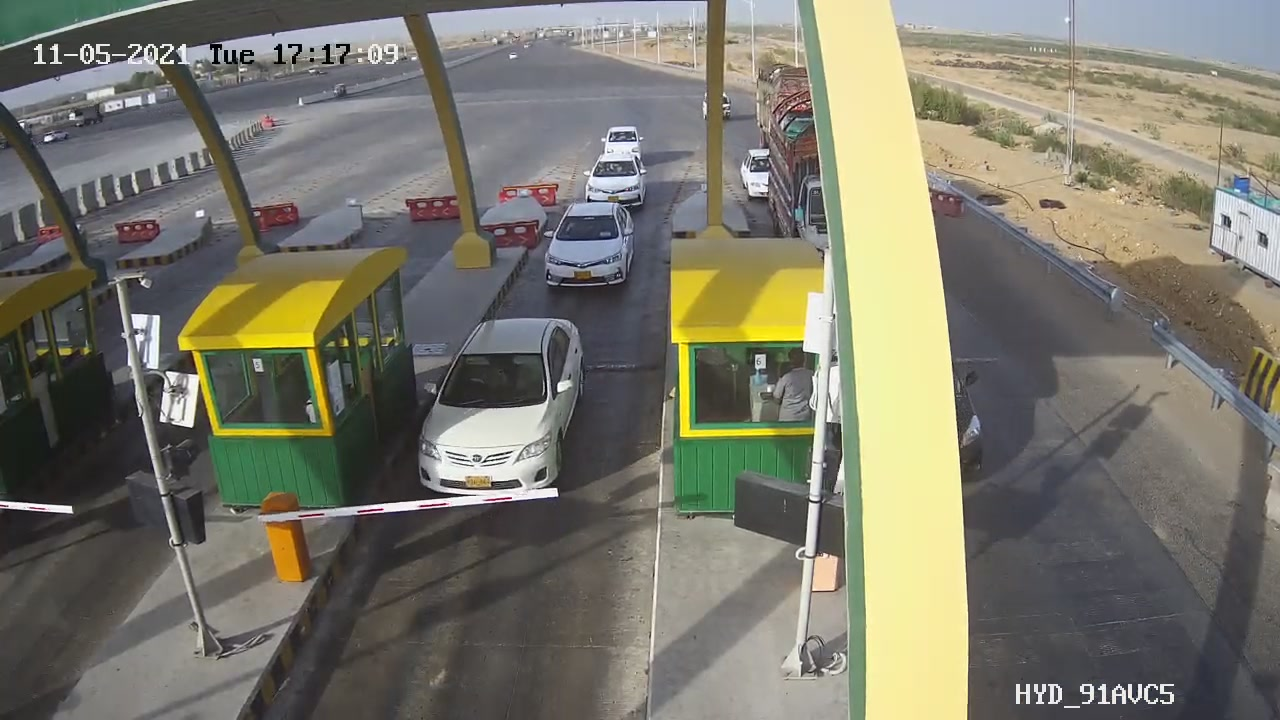F1: (399, 304, 599, 512), (529, 187, 651, 305)
